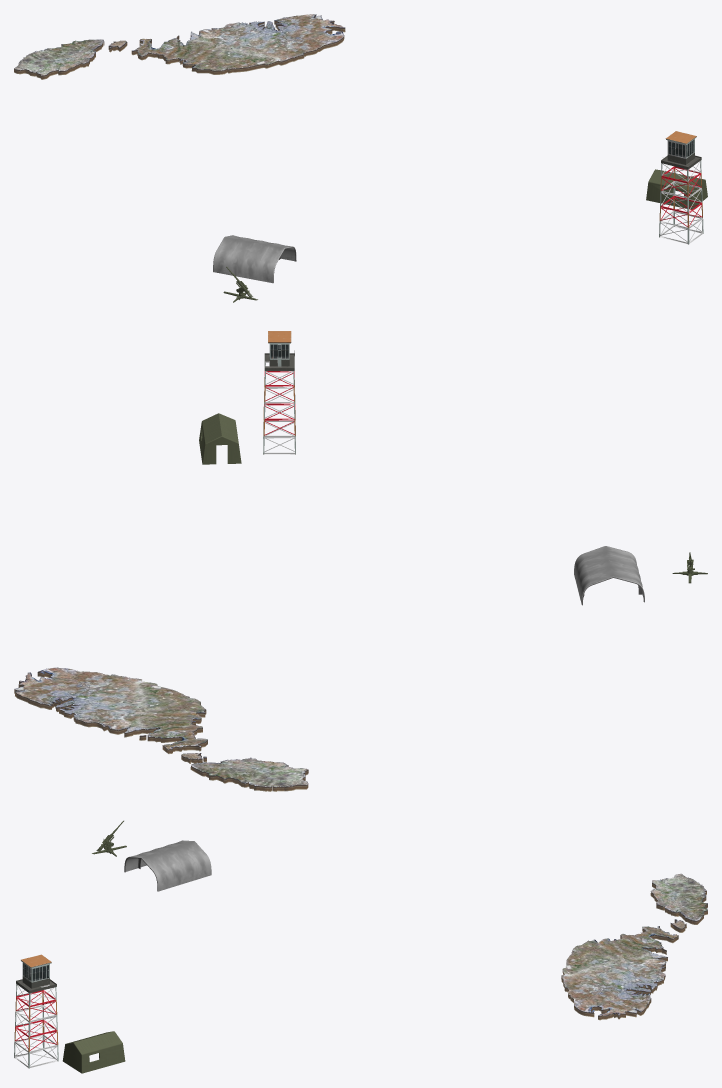
The model's file is Malta.glb.
The picture shows the model from 3 angles, top to bottom: view 1: azimuth 30°, elevation 25°; view 2: azimuth 150°, elevation 25°; view 3: azimuth 270°, elevation 25°; orthographic projection. The views are drawn at different scales.
Parts seen in each view (by area): view 1: Object_24, defaultMaterial.263, clothBuilding001_Material #67_0, Box001_Main Tent_0; view 2: Object_24, defaultMaterial.263, clothBuilding001_Material #67_0, Box001_Main Tent_0; view 3: Object_24, defaultMaterial.263, clothBuilding001_Material #67_0, Box001_Main Tent_0.
Boxes of the visible parts, x1,y1,x2,y2 form: Object_24: (14,14,345,79); defaultMaterial.263: (659,131,703,244); clothBuilding001_Material #67_0: (213,235,296,283); Box001_Main Tent_0: (646,169,707,209); Object_24: (14,667,308,791); defaultMaterial.263: (263,331,295,454); clothBuilding001_Material #67_0: (574,546,644,605); Box001_Main Tent_0: (199,413,241,464); Object_24: (561,873,707,1020); defaultMaterial.263: (14,954,58,1068); clothBuilding001_Material #67_0: (124,840,211,891); Box001_Main Tent_0: (62,1031,125,1073).
Size of the model in its own units: 206 by 41.82 by 265.
11 materials, 7 textured.
